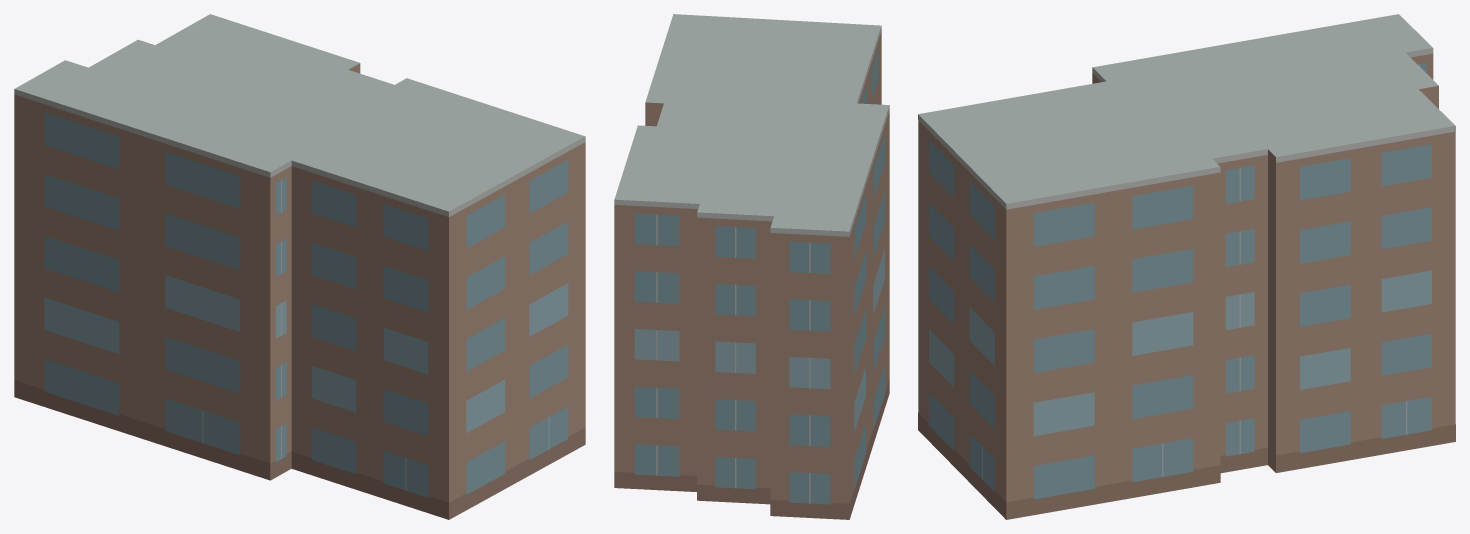
Rendered from survey-upis-32654464.glb.
3 views of the same model, side by side, from view 1: azimuth 30°, elevation 25°; view 2: azimuth 150°, elevation 25°; view 3: azimuth 270°, elevation 25° (orthographic). The views are drawn at different scales.
Visible parts, largest first — view 1: survey-upis-32654464.tmp; view 2: survey-upis-32654464.tmp; view 3: survey-upis-32654464.tmp.
Boxes of the visible parts, box(x1,y1,x2,y2) form: survey-upis-32654464.tmp: box(14, 14, 585, 519); survey-upis-32654464.tmp: box(614, 14, 889, 519); survey-upis-32654464.tmp: box(918, 14, 1455, 519).
Size of the model in its own units: 17.55 by 13.6 by 20.99.
